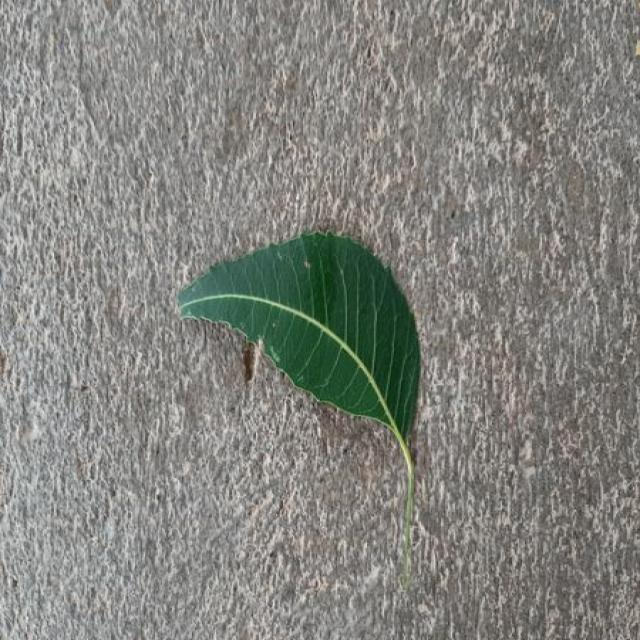neem: (180, 232, 420, 471)
